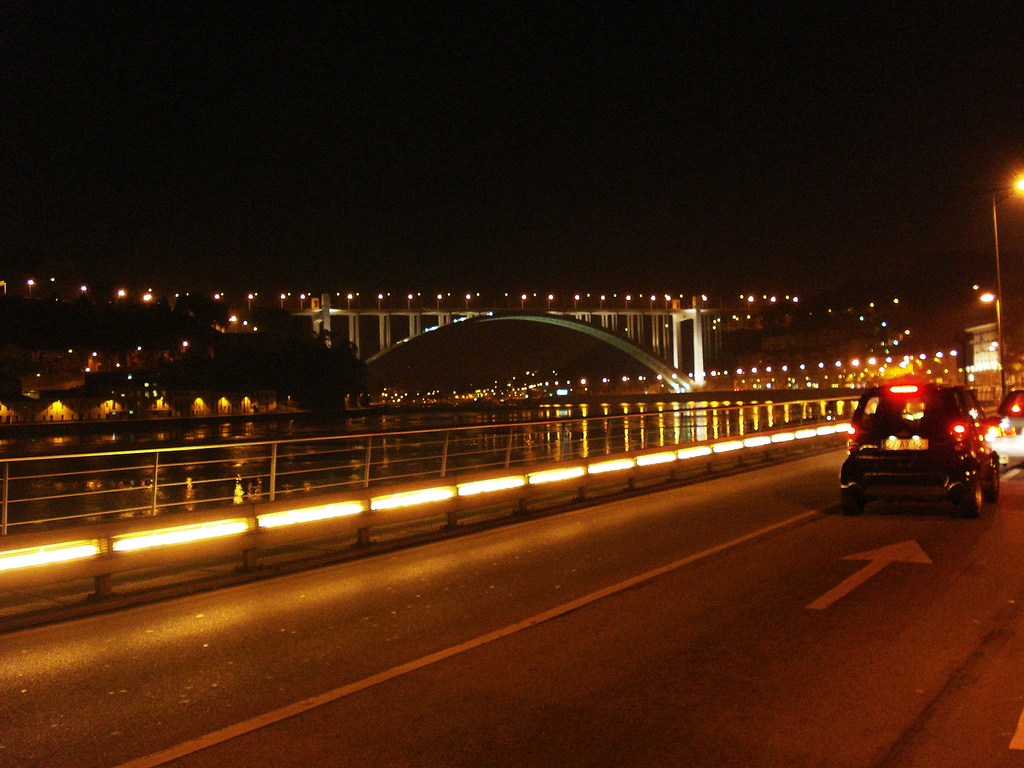arrabida: (291, 293, 741, 393)
